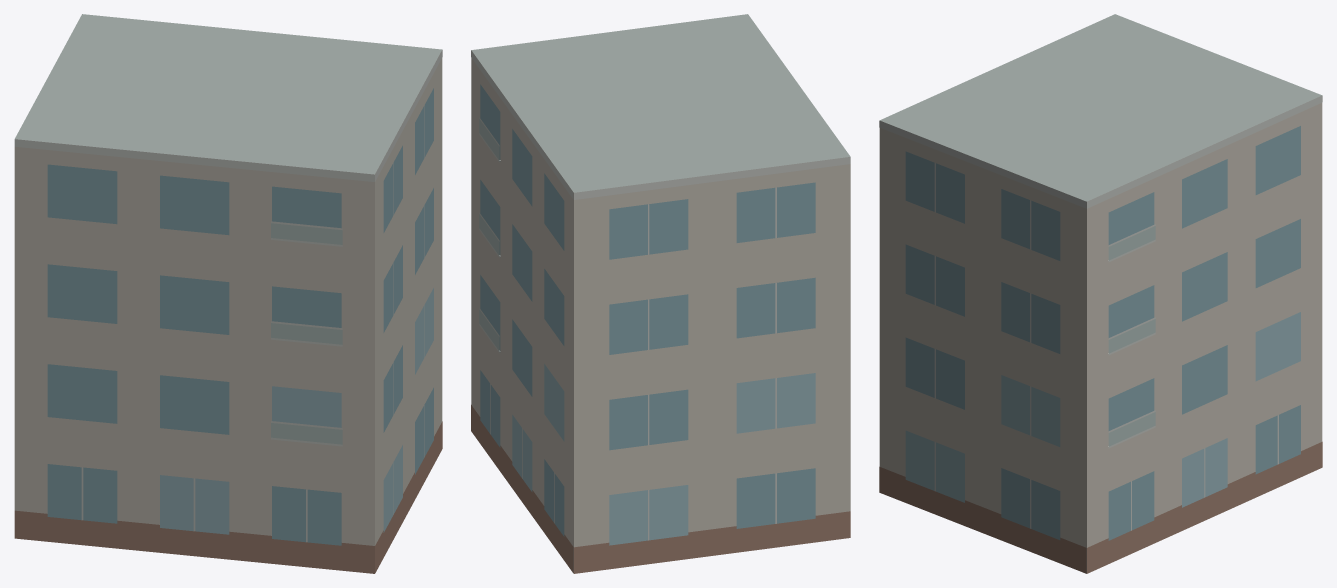
Rendered from survey-upis-32712904.glb.
3 renders of one model, left to right at view 1: azimuth 30°, elevation 25°; view 2: azimuth 150°, elevation 25°; view 3: azimuth 270°, elevation 25°, orthographic. The views are drawn at different scales.
Parts seen in each view (by area): view 1: survey-upis-32712904.tmp; view 2: survey-upis-32712904.tmp; view 3: survey-upis-32712904.tmp.
Part boxes in pixels (x1,y1,x2,y2): survey-upis-32712904.tmp: (14, 14, 442, 573); survey-upis-32712904.tmp: (471, 14, 850, 573); survey-upis-32712904.tmp: (879, 14, 1322, 573).
Bounding box in the file's own units: 13.85 × 12.8 × 13.82.
